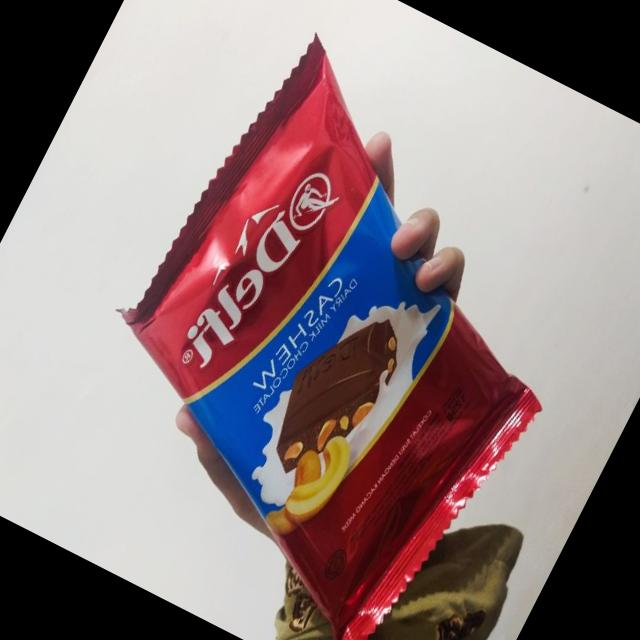KemasanPlastik: (18, 9, 640, 640)
